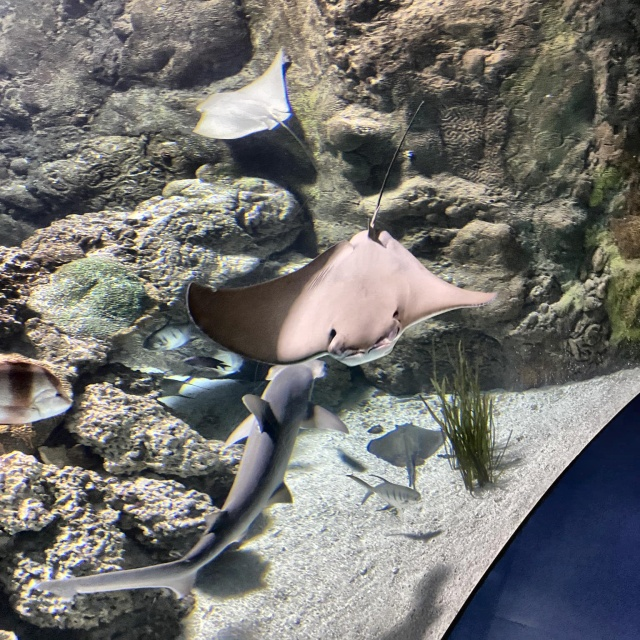fish: (0, 353, 75, 431), (343, 472, 424, 507)
shark: (35, 357, 350, 615)
stingray: (184, 224, 497, 364), (184, 47, 292, 145), (364, 422, 453, 471)
